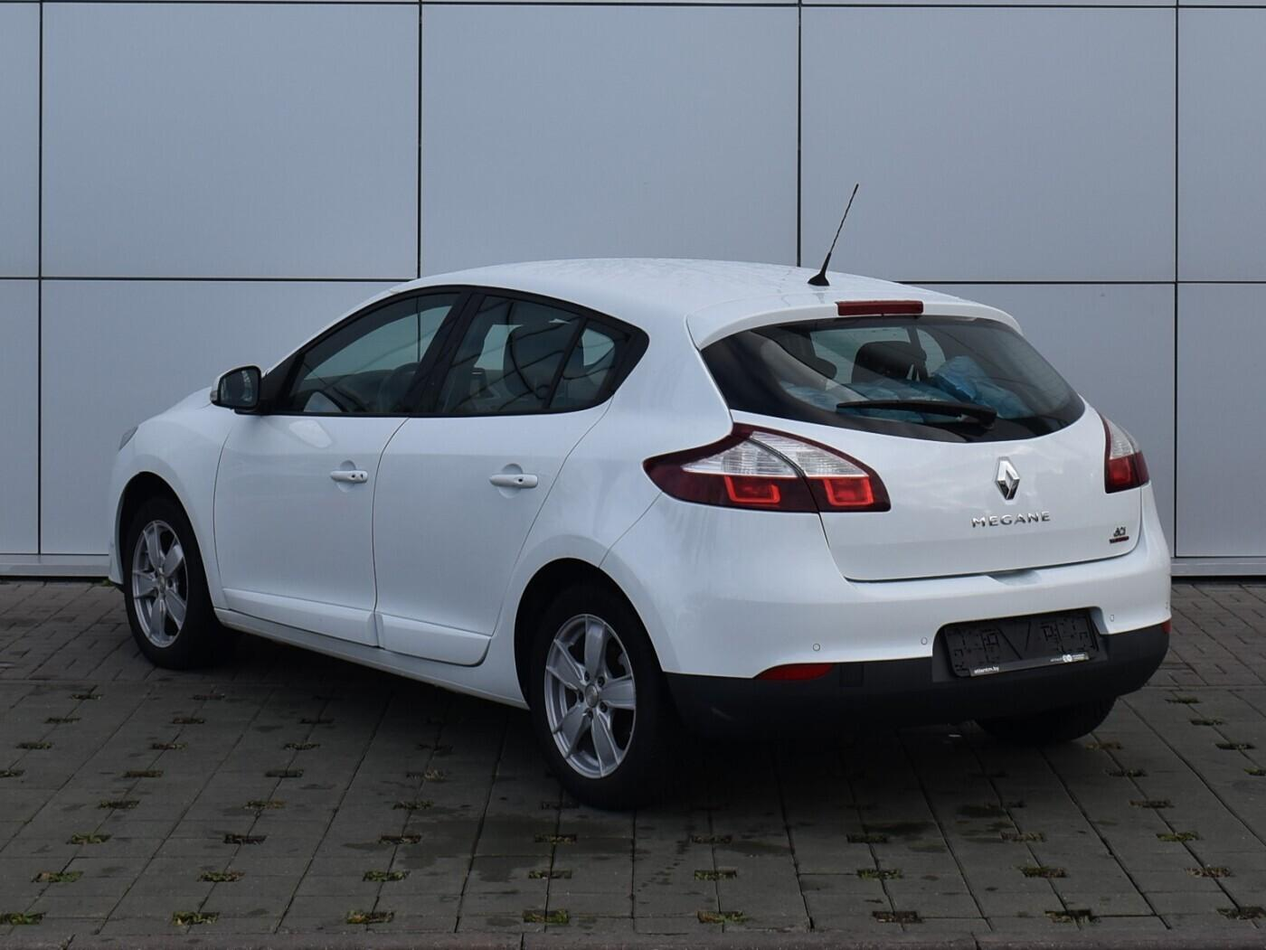Megane_2014-2016: (105, 248, 1179, 795)
